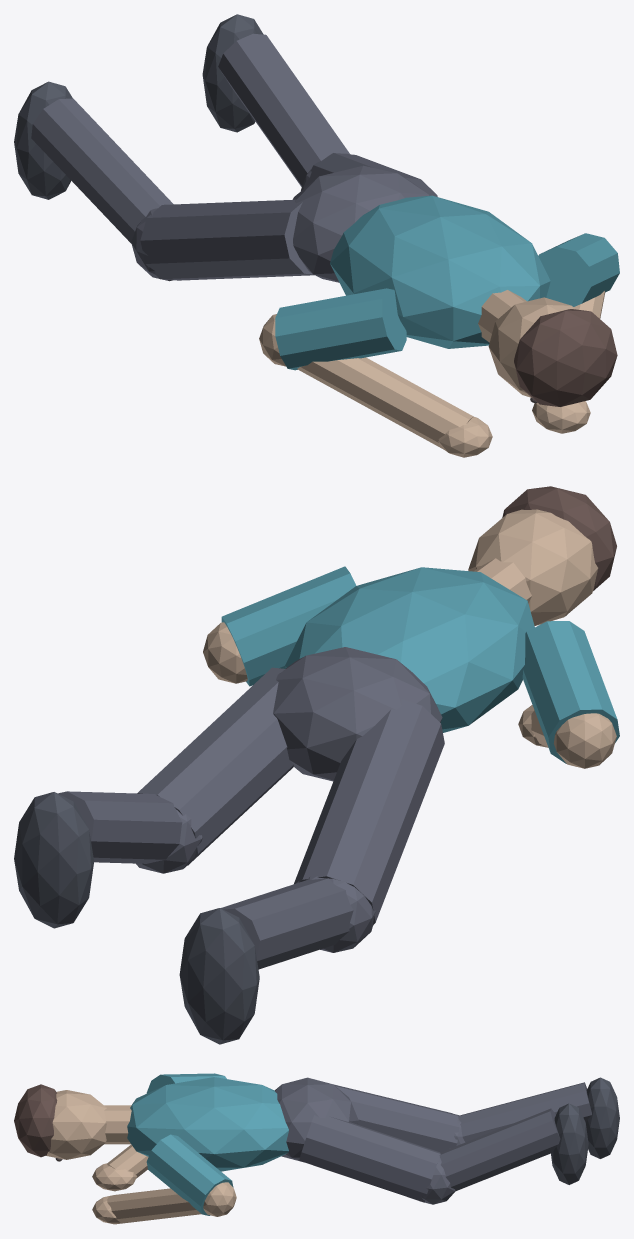
3 views of the same model, one above another, from view 1: azimuth 30°, elevation 25°; view 2: azimuth 150°, elevation 25°; view 3: azimuth 270°, elevation 25° (orthographic). The views are drawn at different scales.
Parts seen in each view (by area): view 1: world; view 2: world; view 3: world.
Boxes of the visible parts, bbox=[...] form: world: bbox=[14, 14, 619, 457]; world: bbox=[14, 486, 619, 1044]; world: bbox=[14, 1073, 619, 1224].
Bounding box in the file's own units: 0.93 × 0.4412 × 2.01.
